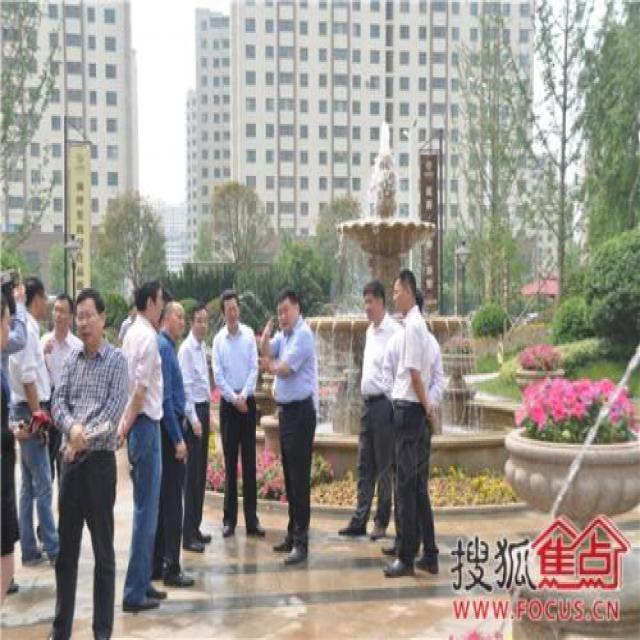head: (74, 285, 107, 347), (130, 270, 166, 326), (390, 262, 421, 316), (274, 285, 303, 336), (358, 280, 386, 332), (49, 288, 76, 340), (158, 295, 188, 339), (189, 293, 211, 343), (220, 283, 242, 330)
person: (50, 287, 140, 639), (256, 290, 332, 571), (387, 270, 453, 588), (210, 294, 277, 550), (17, 274, 72, 573), (133, 276, 179, 620), (346, 271, 403, 544), (183, 303, 219, 566)
